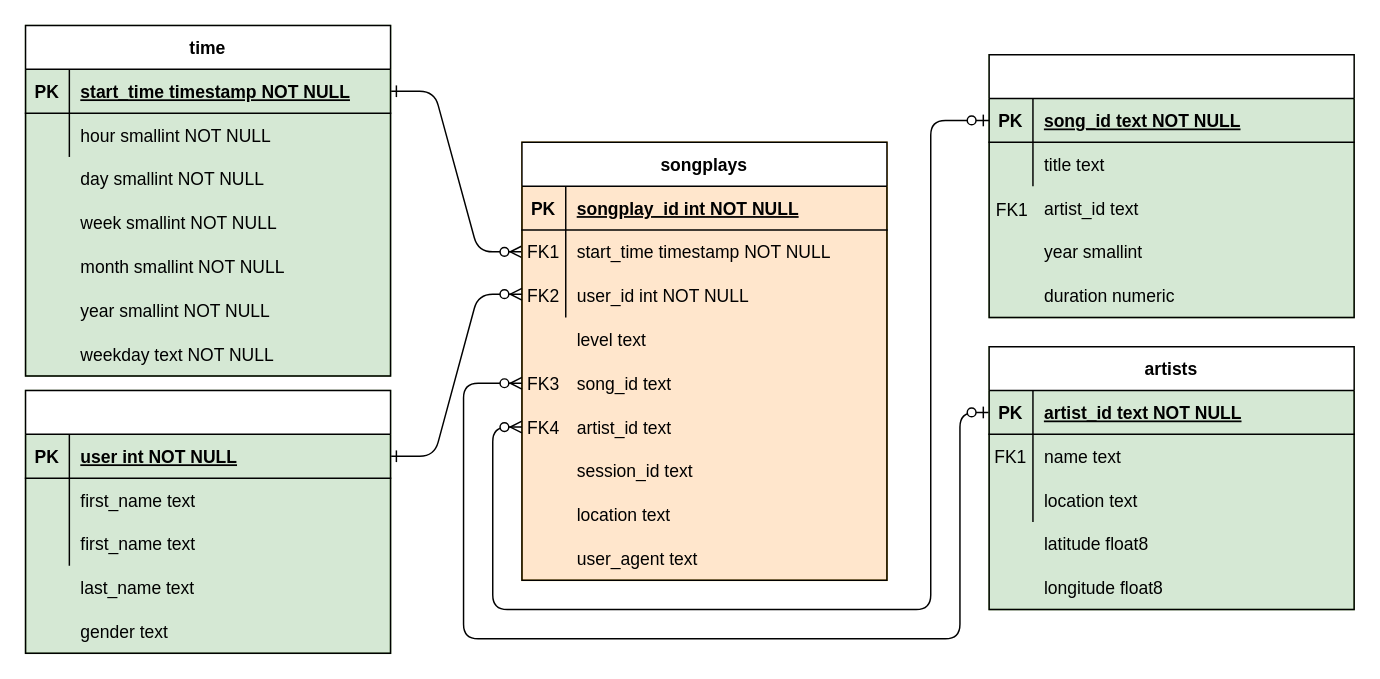
The diagram is 1380 pixels wide and 679 high, and some of its shapes have lost their labels. The shapes that lost their labels are listed below. From the top down, each one's box as (x1, y1, x2, y2) in pixels, then its label:
(988, 53, 1354, 318): songs
(24, 389, 391, 653): users
